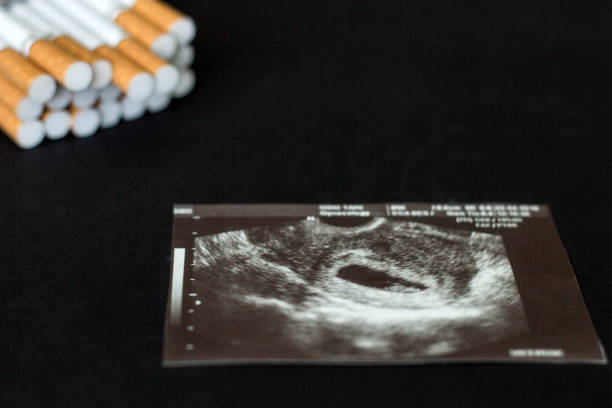cigarette: (27, 0, 155, 102), (47, 0, 181, 95), (8, 0, 112, 90), (0, 5, 93, 92), (82, 0, 179, 60), (0, 37, 55, 101), (118, 0, 197, 42), (0, 73, 44, 123), (0, 102, 46, 149), (70, 108, 103, 139), (40, 109, 73, 139), (119, 94, 147, 123), (95, 100, 122, 129), (172, 72, 197, 99), (173, 45, 195, 71), (146, 91, 172, 113)
